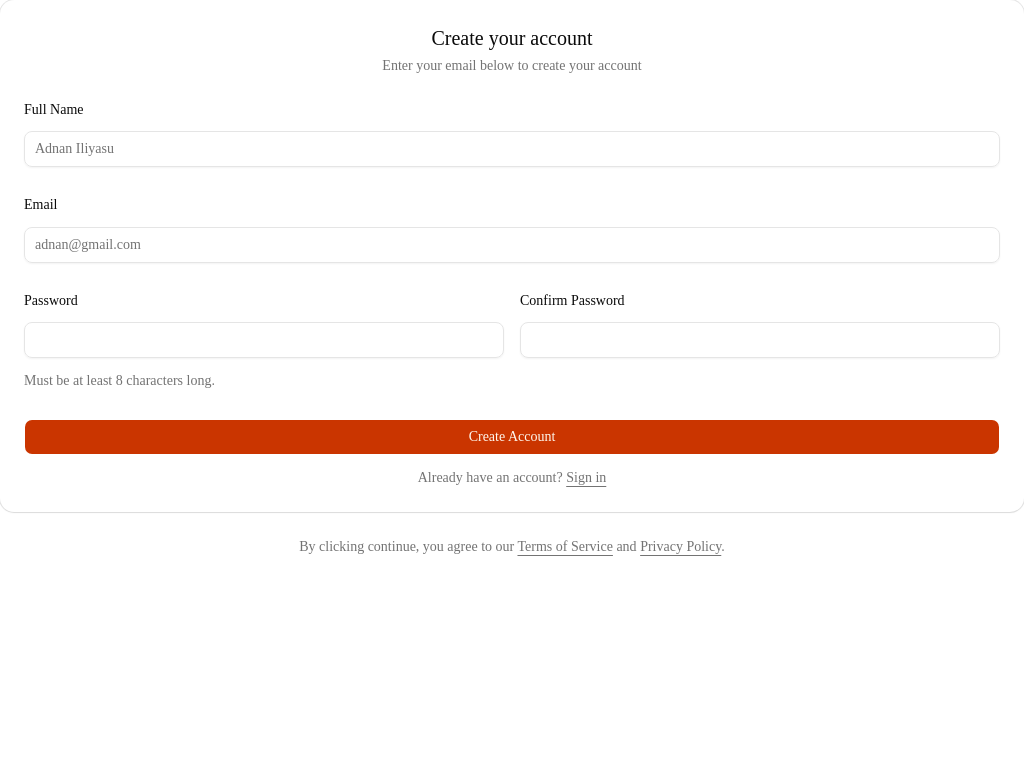
Test: Authentication Components › SignUpForm › validates email format
Type "invalid-email" into the field labelled "Email". click: (512, 244)
box: [24,226,1000,262]
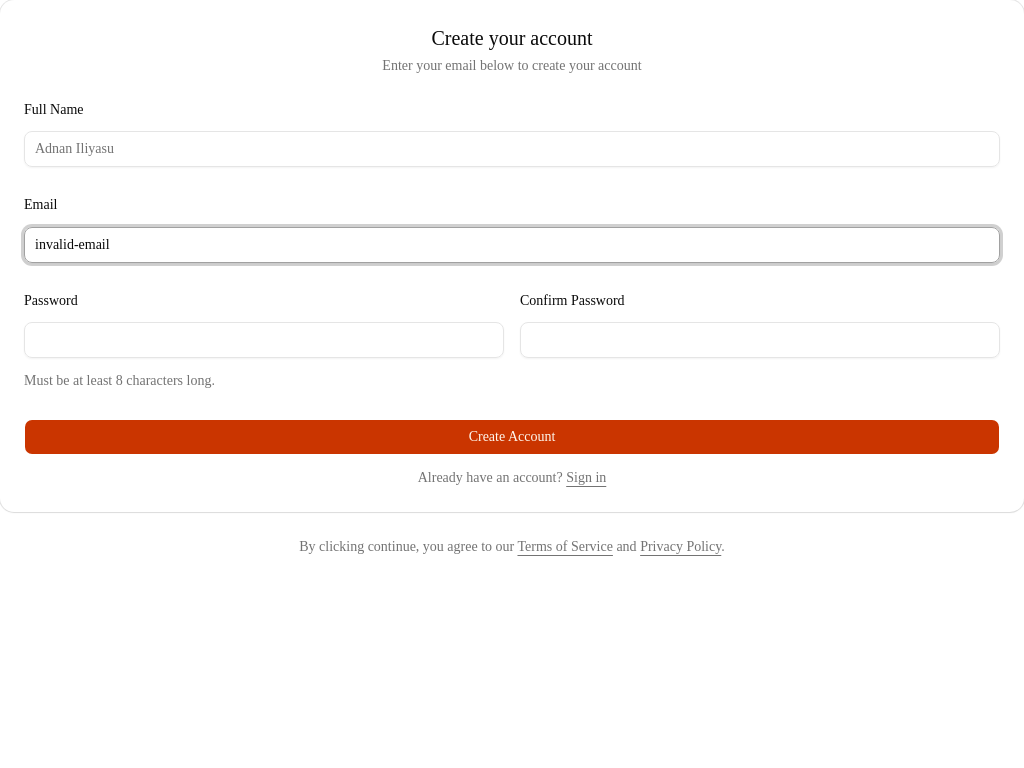
Click the button "Create Account". click: click(512, 437)
box: [24,419,1000,455]
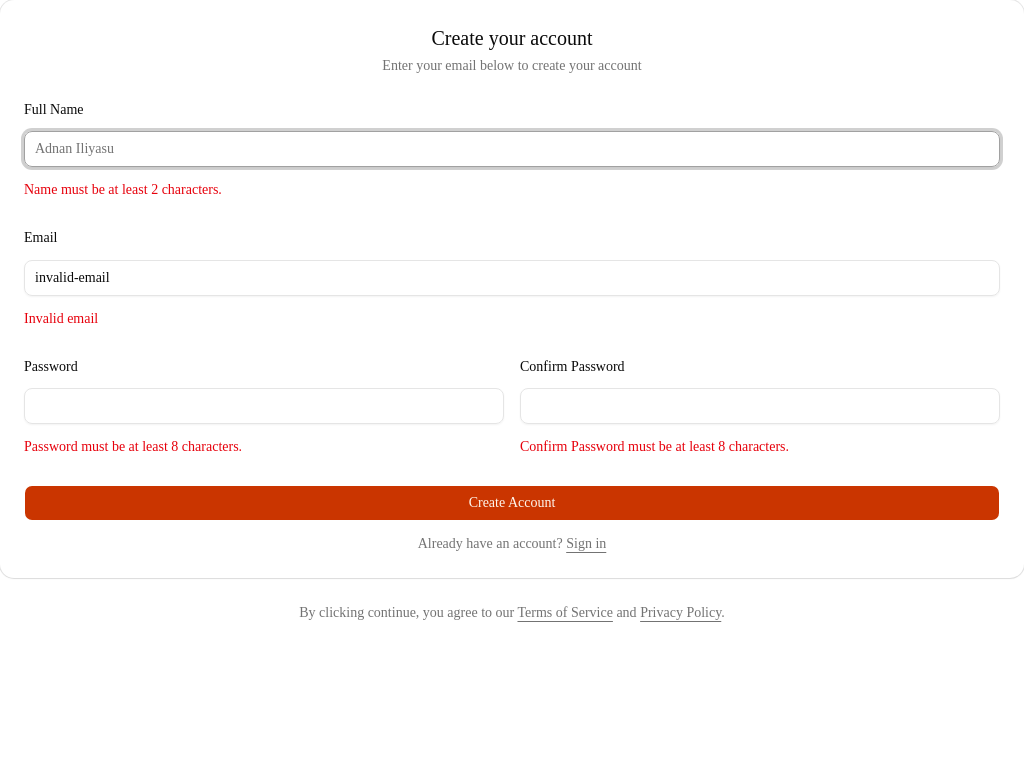
Expected: the text "Invalid email" is shown, [24,310,98,326]
